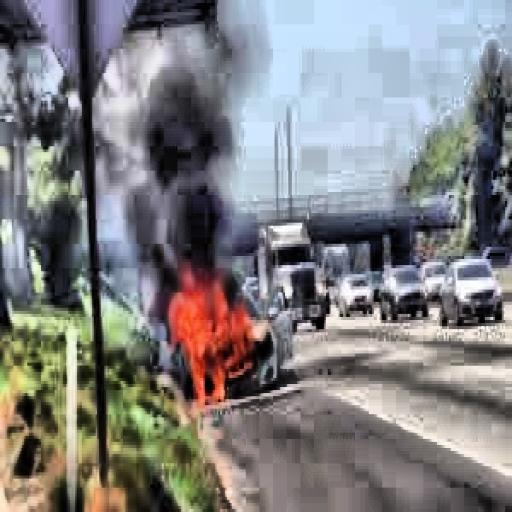fire: (160, 262, 258, 405)
